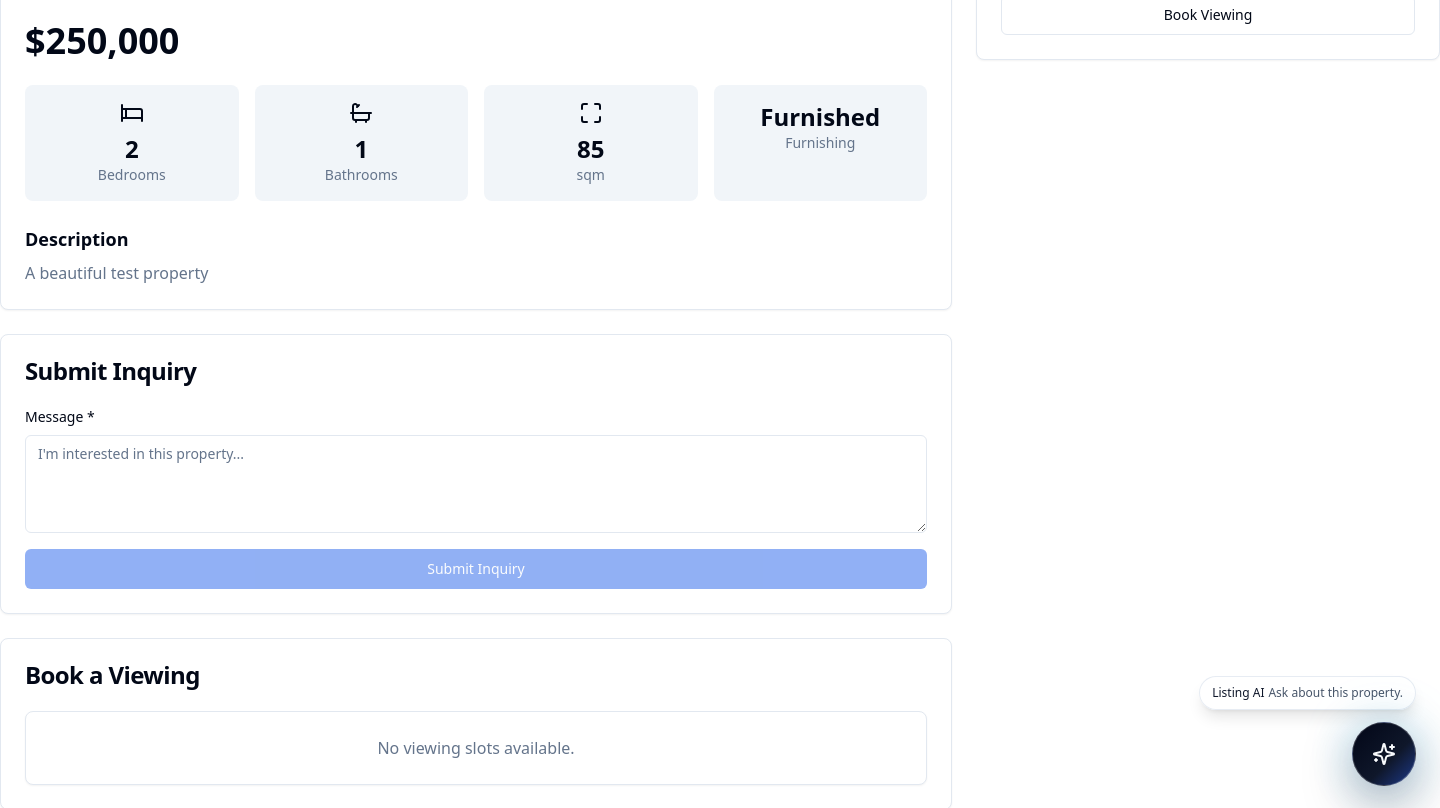
Scenario: ListingDetailPage › shows inquiry failure feedback on error
(page scrolled)
In the text box labelled "Message *": (476,484) left=25, top=435, right=927, bottom=533, type "I'm interested in this property"
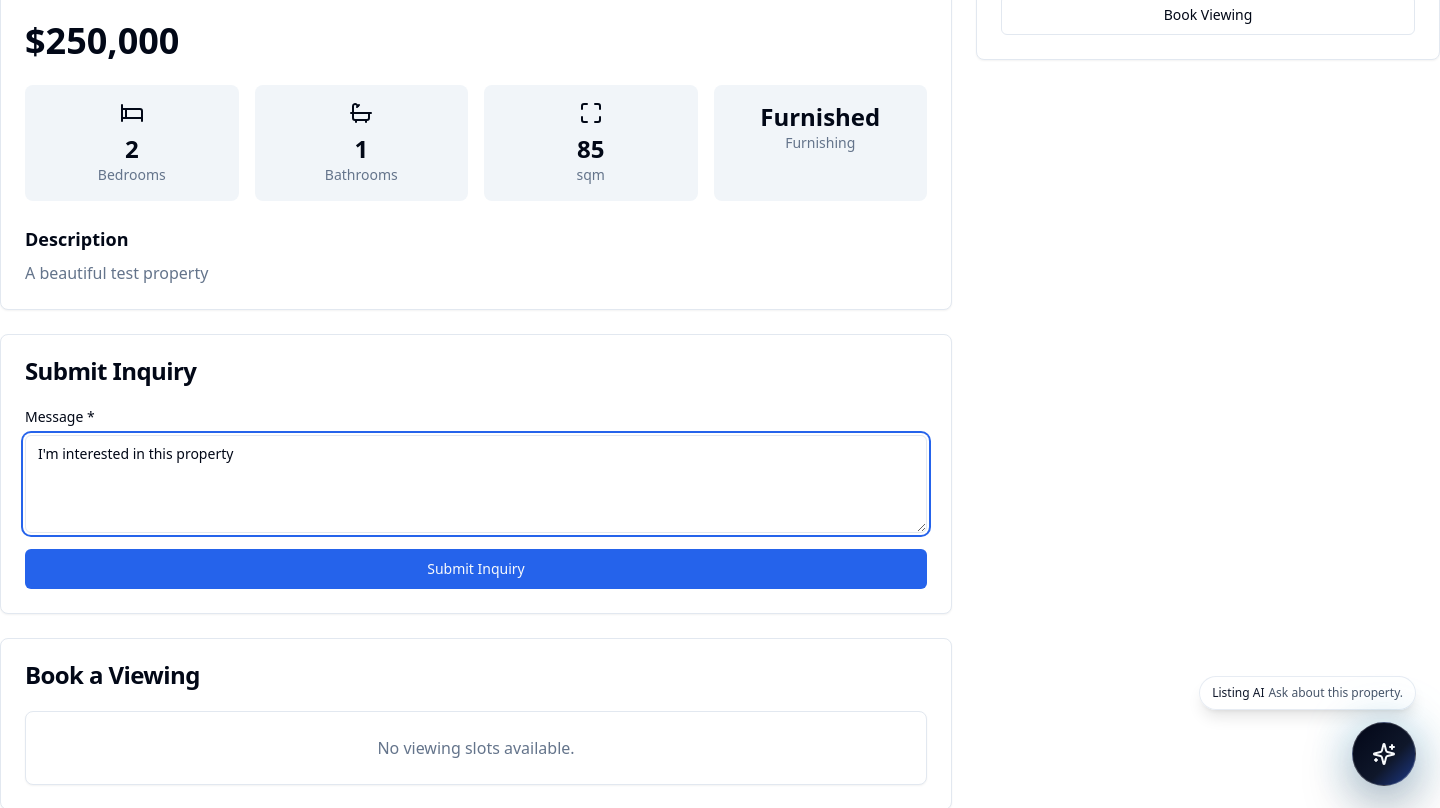
Click the button "Submit Inquiry": (476,569) left=25, top=549, right=927, bottom=589
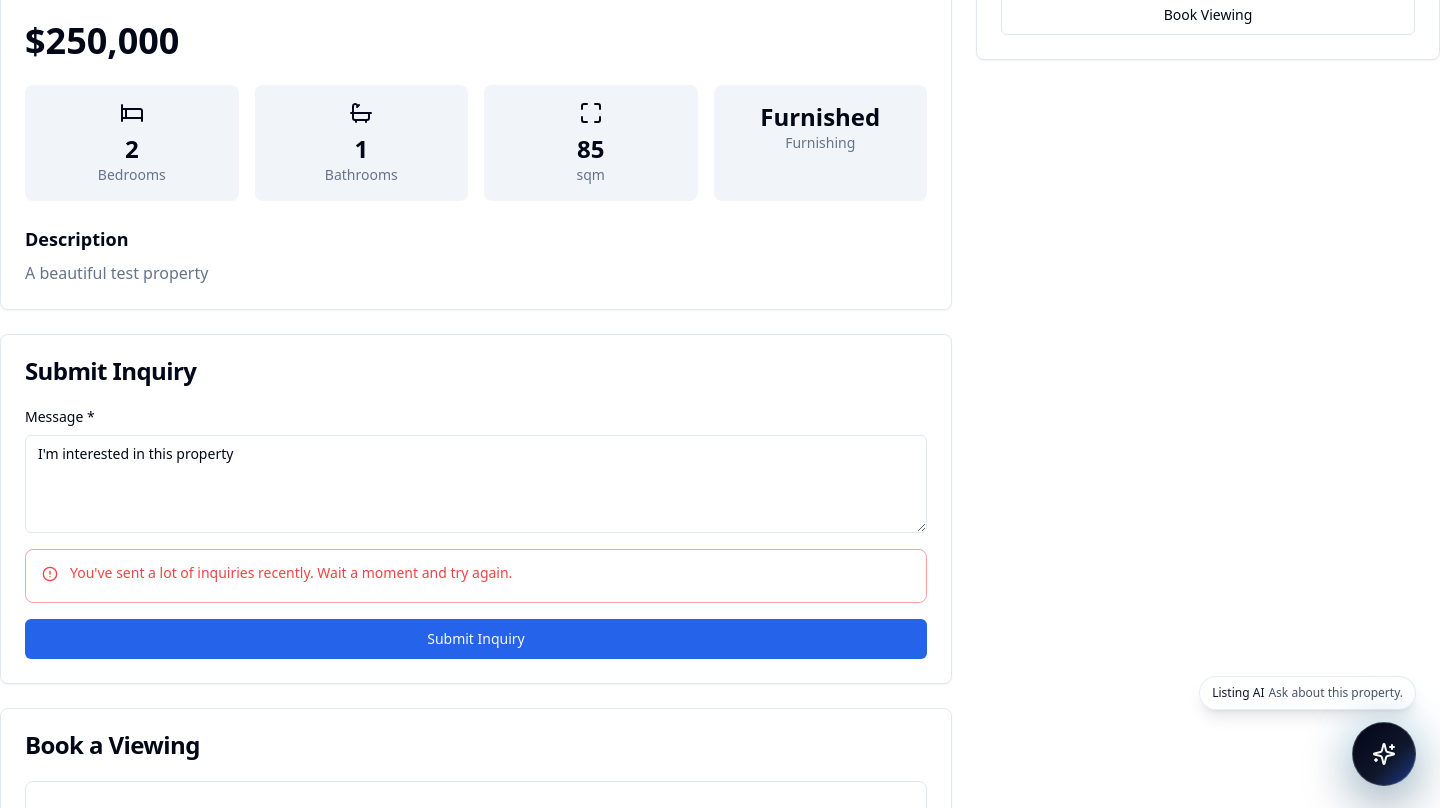
Now the text "lot of inquiries" is shown, box left=70, top=563, right=512, bottom=582
